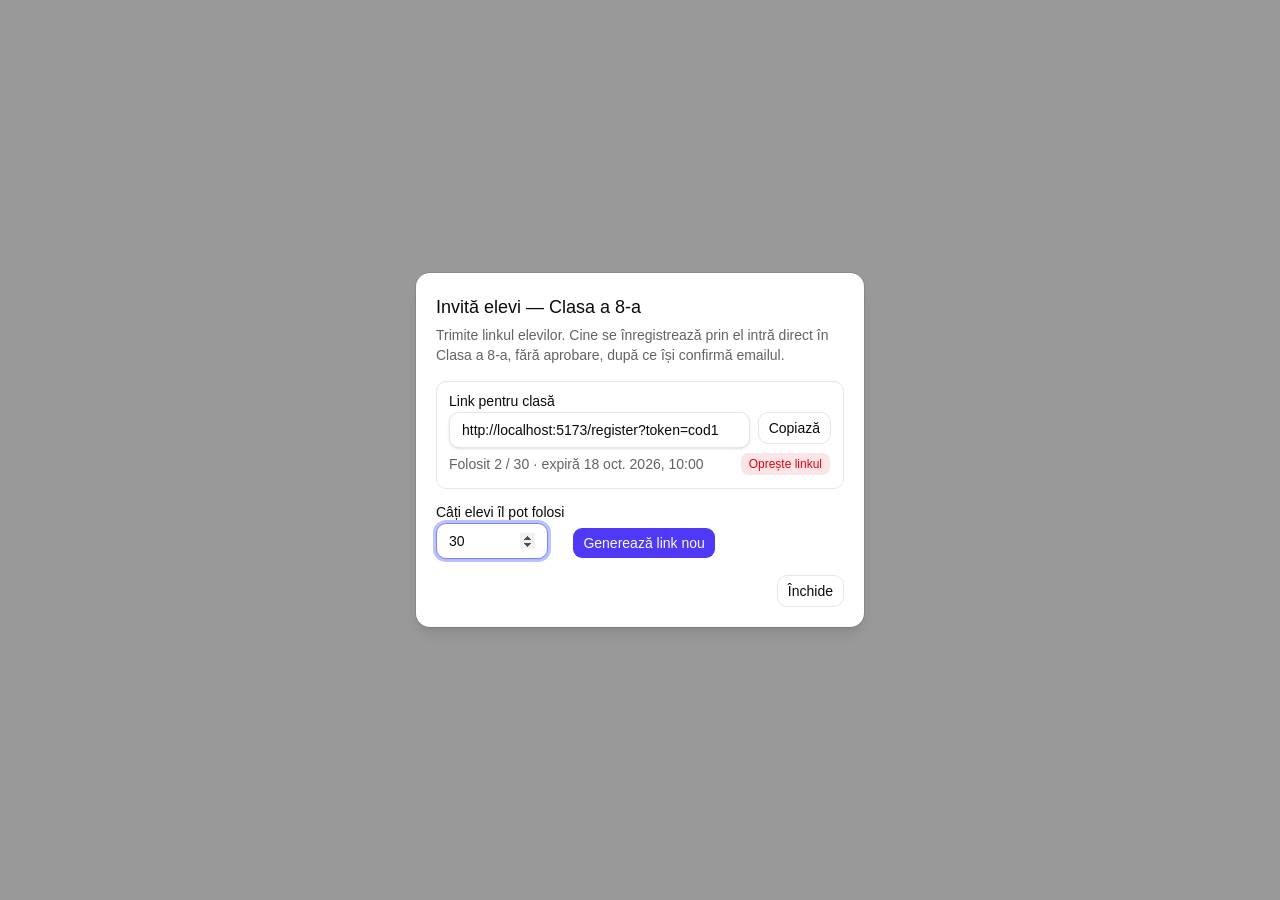
Test case: ClassInviteDialog › generates a link with the chosen cap and shows it first
The width and height of the screenshot is (1280, 900).
Expected: the list with test id "class-invites" is shown, [436,381,844,489]
Clear the number field labelled "Câți elevi îl pot folosi" at (492, 541), box [436,523,548,559]
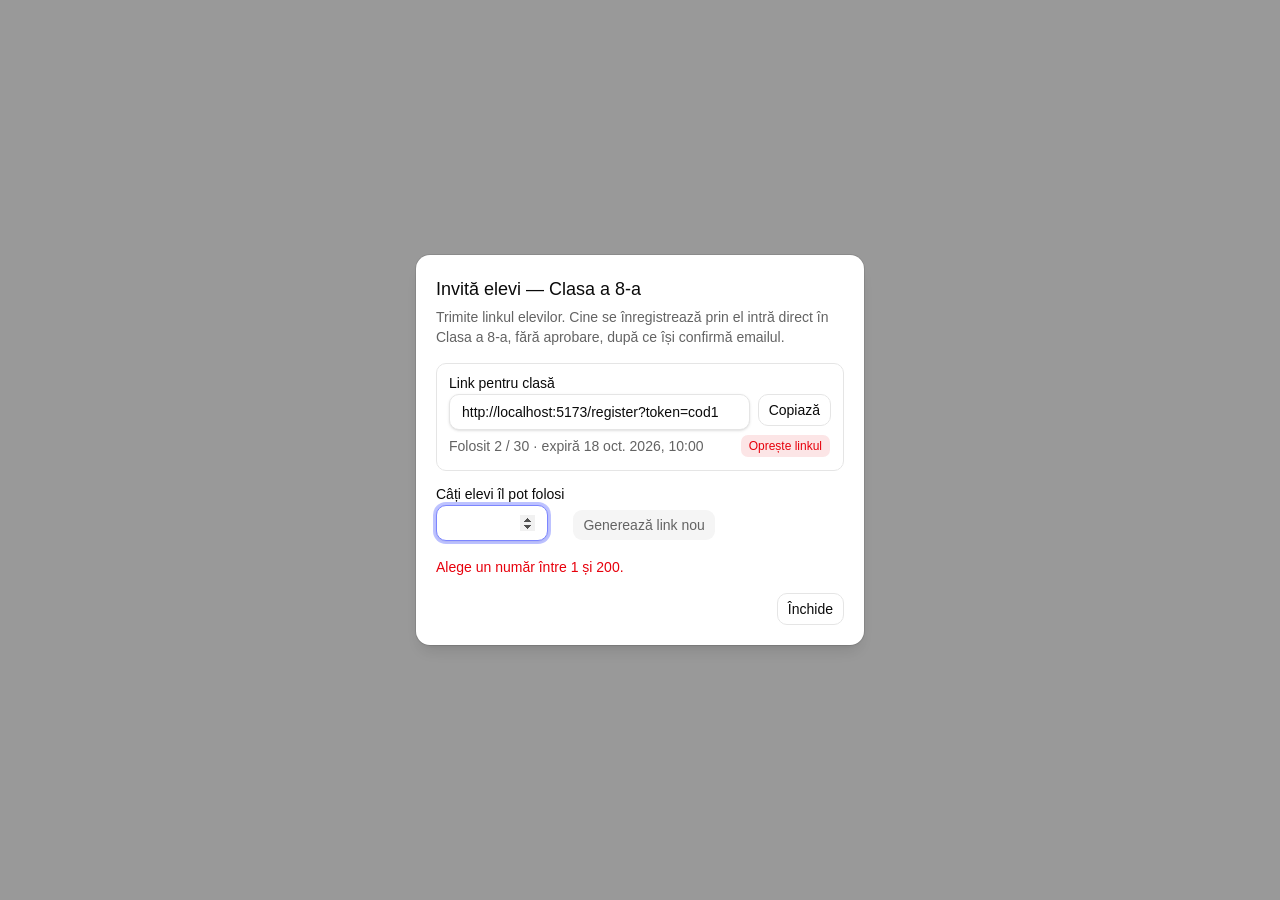
Type "25" into the number field labelled "Câți elevi îl pot folosi" at (492, 523), box [436,505,548,541]
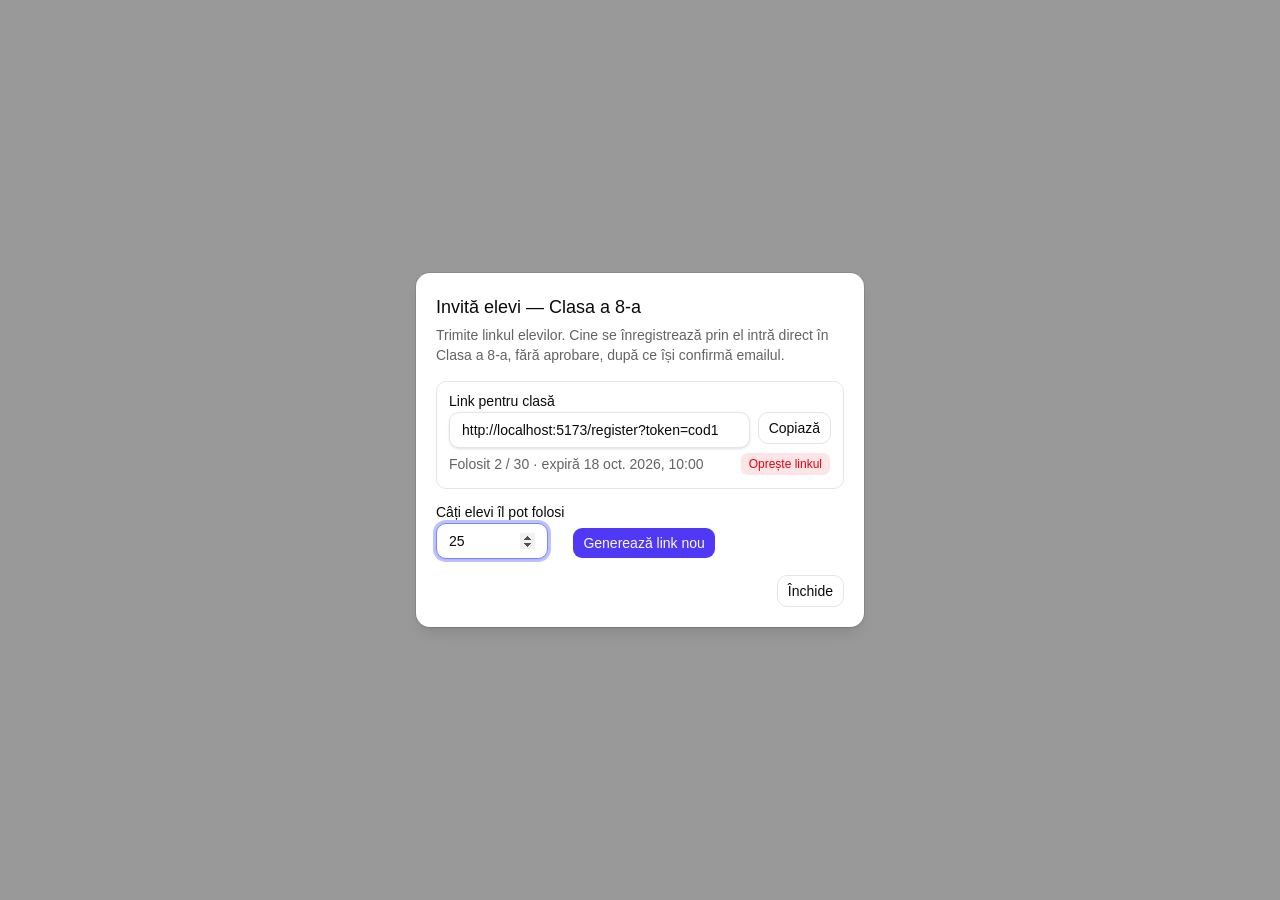
Click the button "Generează link nou" at (644, 543), box [572,527,716,559]
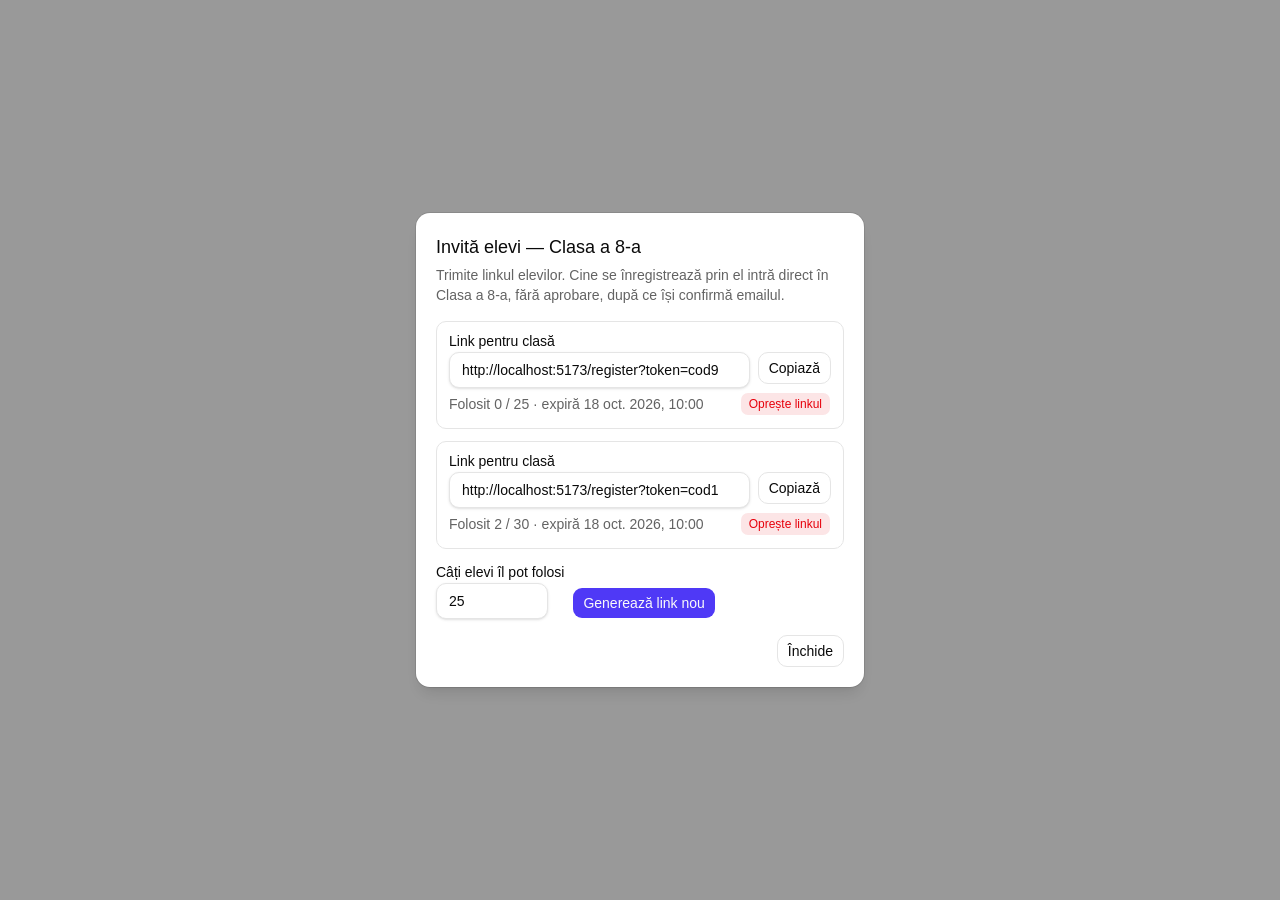
Result: the 1st list item shows "Folosit 0 / 25" at [436,321,844,429]
